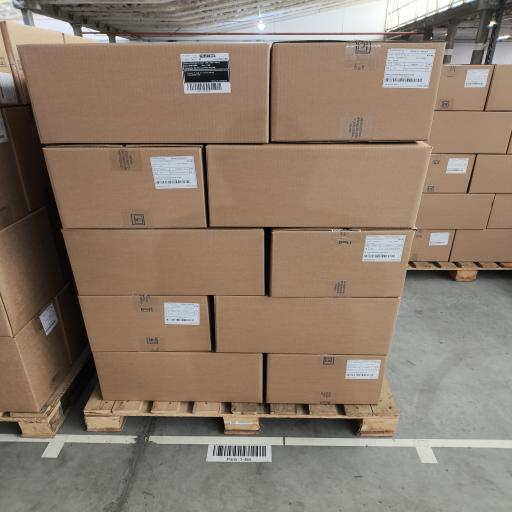pallet: (85, 379, 399, 436), (0, 345, 95, 438), (408, 262, 511, 281)
